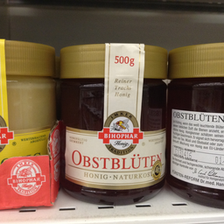honey: (61, 43, 171, 206)
